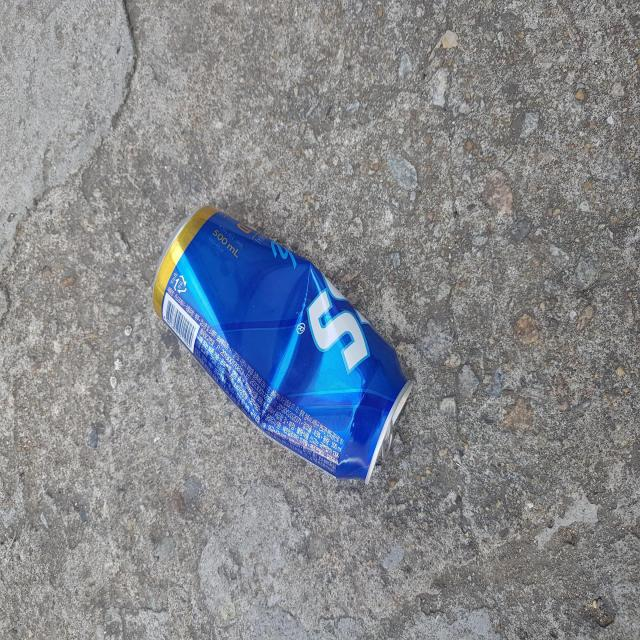can: (153, 206, 413, 484)
